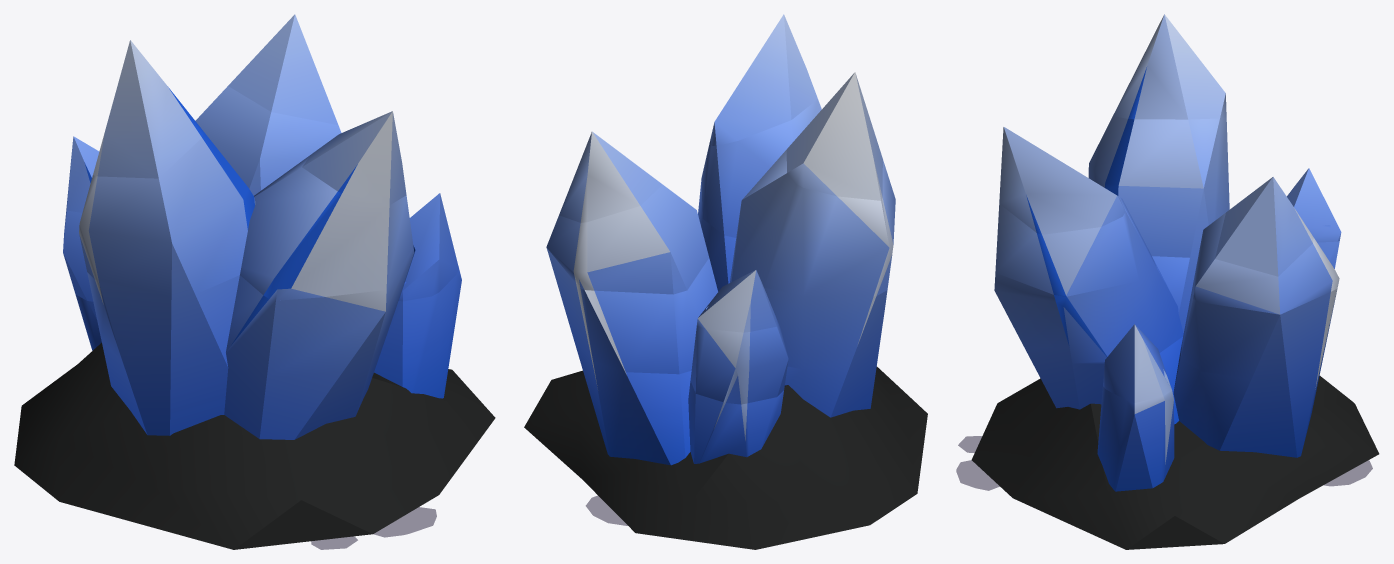
Rendered from Bloom_stone.fbx.
The picture shows the model from 3 angles, left to right: view 1: azimuth 30°, elevation 25°; view 2: azimuth 150°, elevation 25°; view 3: azimuth 270°, elevation 25°; orthographic projection. The views are drawn at different scales.
Visible parts, largest first — view 1: Мiolet_stone.001, Plane.002; view 2: Мiolet_stone.001, Plane.002; view 3: Мiolet_stone.001, Plane.002.
Boxes of the visible parts, bbox=[...] form: Мiolet_stone.001: bbox=[14, 14, 495, 549]; Plane.002: bbox=[311, 507, 436, 549]; Мiolet_stone.001: bbox=[524, 14, 927, 549]; Plane.002: bbox=[585, 495, 627, 525]; Мiolet_stone.001: bbox=[971, 14, 1379, 549]; Plane.002: bbox=[956, 436, 1372, 490].
Size of the model in its own units: 1.86 by 1.89 by 1.92.
